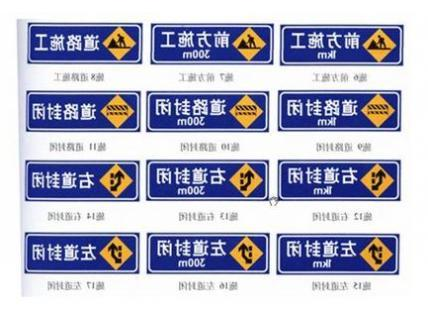sign: (151, 22, 274, 64), (279, 91, 402, 132), (146, 91, 268, 131), (147, 161, 268, 200), (148, 233, 269, 272), (278, 236, 398, 275), (282, 25, 401, 64), (25, 232, 138, 273), (279, 162, 398, 200), (28, 23, 141, 63), (26, 160, 137, 200), (26, 91, 139, 129)
